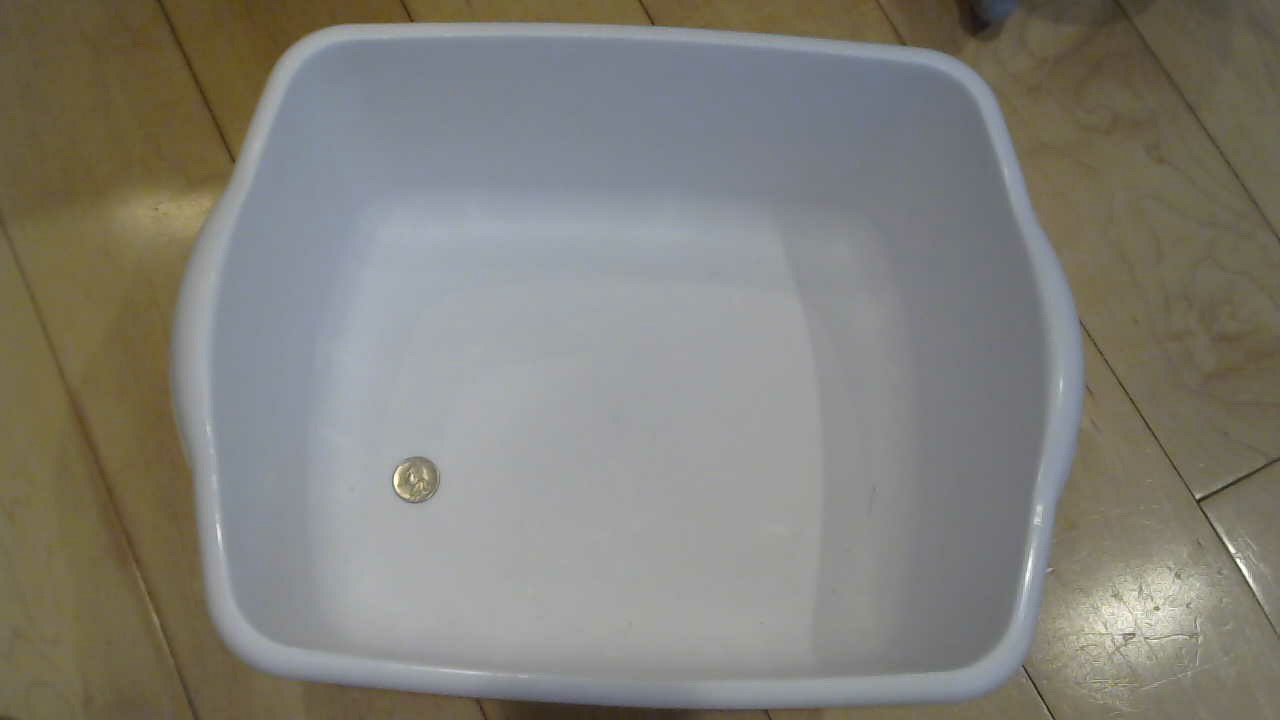coin: (389, 458, 453, 517)
